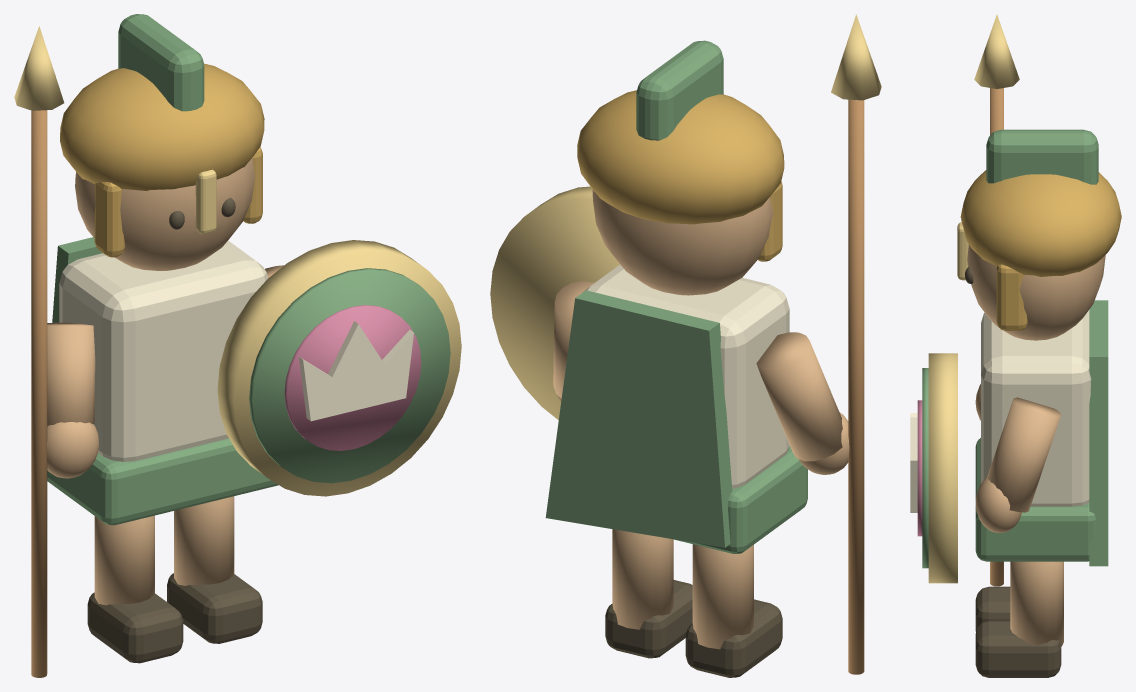
The model's file is toy.glb.
The picture shows the model from 3 angles, left to right: view 1: azimuth 30°, elevation 25°; view 2: azimuth 150°, elevation 25°; view 3: azimuth 270°, elevation 25°; orthographic projection. The views are drawn at different scales.
Parts seen in each view (by area): view 1: Solid tunic, Bronze helmet.002, Shield face.004, Shield rim.002, Green skirt, Spear shaft.002, Face.002, Shield face.005, Crown relief.002, Green crest.002, Leg.002, Sandal.002 (+9 smaller); view 2: Cape.002, Bronze helmet.002, Shield rim.002, Solid tunic, Face.002, Spear shaft.002, Arm.004, Leg.002, Green crest.002, Leg.003, Green skirt, Sandal.002 (+5 smaller); view 3: Solid tunic, Bronze helmet.002, Shield rim.002, Face.002, Green skirt, Green crest.002, Arm.005, Cape.002, Leg.003, Sandal.003, Spear tip.002, Cheek guard.005 (+7 smaller).
Part boxes in pixels (left/top/right/bottom): Solid tunic: left=59, top=240, right=268, bottom=461; Bronze helmet.002: left=60, top=63, right=264, bottom=190; Shield face.004: left=249, top=268, right=450, bottom=483; Shield rim.002: left=217, top=240, right=461, bottom=496; Green skirt: left=47, top=438, right=278, bottom=525; Spear shaft.002: left=31, top=110, right=47, bottom=677; Face.002: left=75, top=158, right=254, bottom=270; Shield face.005: left=284, top=305, right=421, bottom=450; Crown relief.002: left=299, top=321, right=413, bottom=421; Green crest.002: left=118, top=14, right=204, bottom=111; Leg.002: left=94, top=515, right=154, bottom=605; Sandal.002: left=87, top=592, right=183, bottom=663; Cape.002: left=545, top=290, right=732, bottom=547; Bronze helmet.002: left=577, top=90, right=784, bottom=224; Shield rim.002: left=490, top=186, right=619, bottom=419; Solid tunic: left=583, top=264, right=789, bottom=488; Face.002: left=592, top=189, right=773, bottom=295; Spear shaft.002: left=848, top=99, right=864, bottom=674; Arm.004: left=756, top=332, right=842, bottom=461; Leg.002: left=692, top=544, right=753, bottom=649; Green crest.002: left=636, top=40, right=723, bottom=140; Leg.003: left=612, top=529, right=673, bottom=629; Green skirt: left=674, top=446, right=807, bottom=553; Sandal.002: left=685, top=599, right=782, bottom=677; Solid tunic: left=981, top=311, right=1091, bottom=506; Bronze helmet.002: left=960, top=170, right=1121, bottom=276; Shield rim.002: left=928, top=353, right=957, bottom=583; Face.002: left=967, top=245, right=1105, bottom=340; Green skirt: left=975, top=438, right=1095, bottom=561; Green crest.002: left=986, top=129, right=1098, bottom=184; Arm.005: left=987, top=397, right=1060, bottom=512; Cape.002: left=1089, top=300, right=1108, bottom=566; Leg.003: left=1010, top=561, right=1063, bottom=646; Sandal.003: left=975, top=620, right=1061, bottom=677; Spear tip.002: left=974, top=14, right=1019, bottom=88; Cheek guard.005: left=996, top=264, right=1027, bottom=330.
Bounding box in the file's own units: 1.54 × 2.37 × 0.7897.
